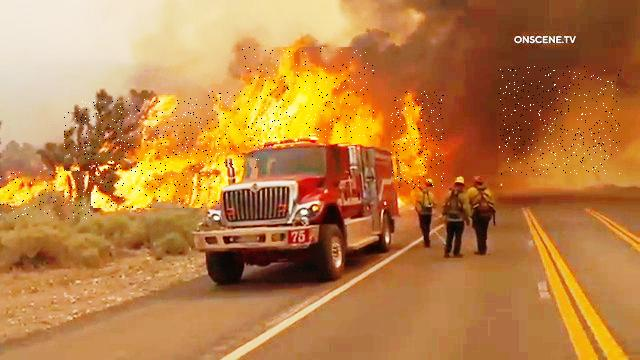fire: (64, 98, 219, 208), (242, 47, 375, 138), (392, 90, 445, 190), (0, 172, 93, 220), (205, 92, 261, 169)
smoke: (499, 67, 622, 176)
